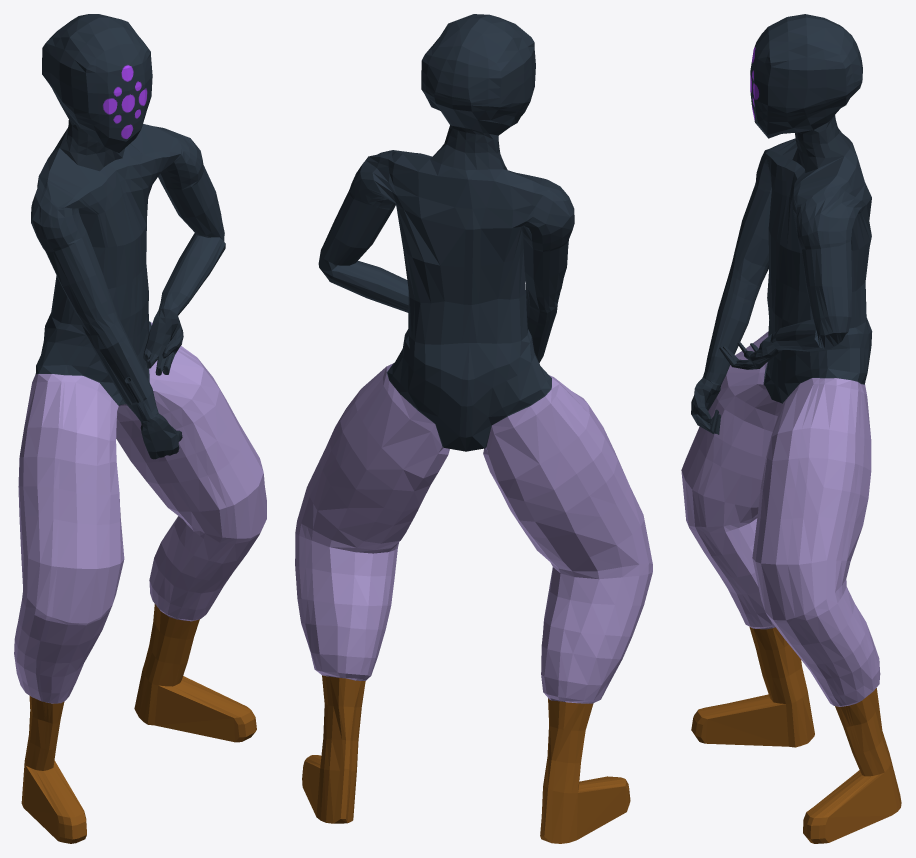
Rendered from Oracle_WL_000013.obj.
3 renders of one model, left to right at view 1: azimuth 30°, elevation 25°; view 2: azimuth 150°, elevation 25°; view 3: azimuth 270°, elevation 25°, orthographic. The views are drawn at different scales.
Visible parts, largest first — view 1: Cube; view 2: Cube; view 3: Cube.
Boxes of the visible parts, x1,y1,x2,y2 form: Cube: (14,14,266,843); Cube: (295,14,652,843); Cube: (681,14,901,843).
Bounding box in the file's own units: 1.46 × 3.77 × 0.9918.
